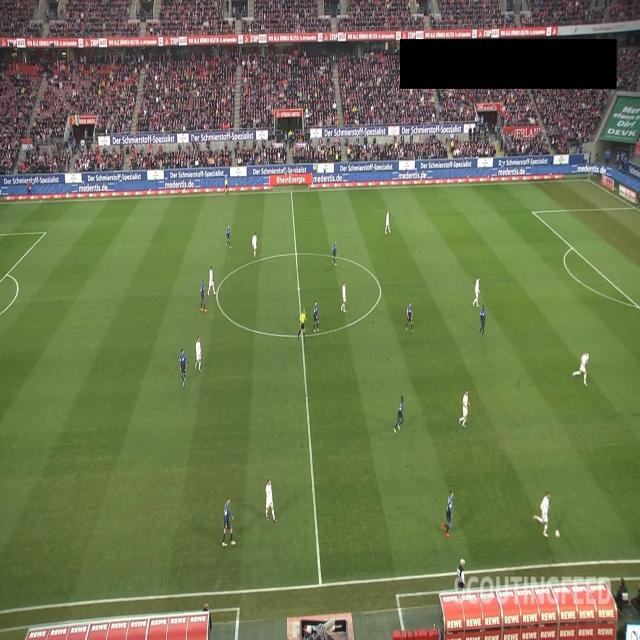ball: (555, 529, 560, 540)
